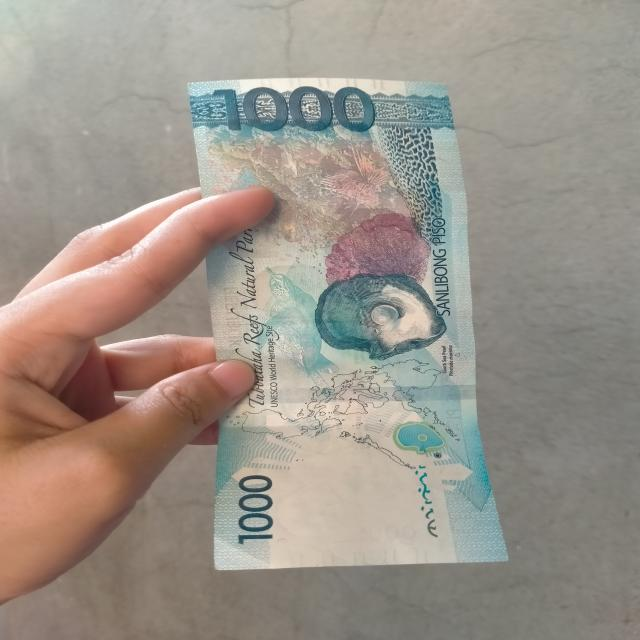security_thread: (221, 382, 477, 403)
see_through_mark: (407, 460, 452, 544)
value: (212, 84, 375, 136)
value_watermark: (356, 522, 416, 544)
watermark: (263, 445, 410, 534)
